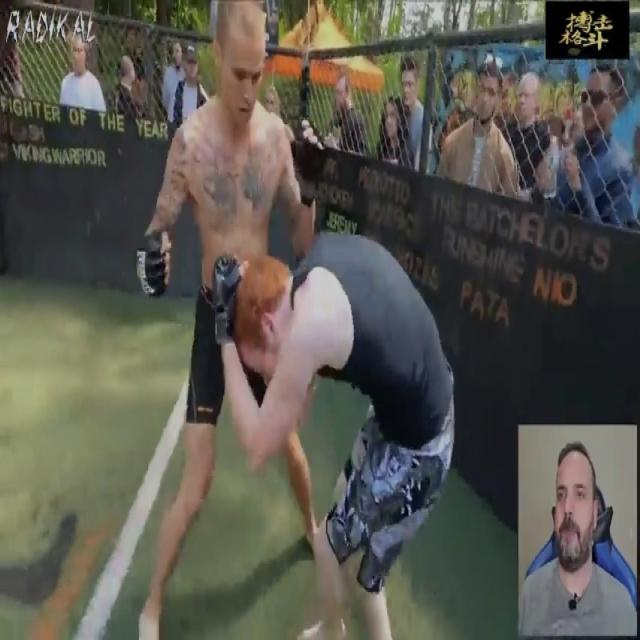fight: (135, 0, 457, 639)
